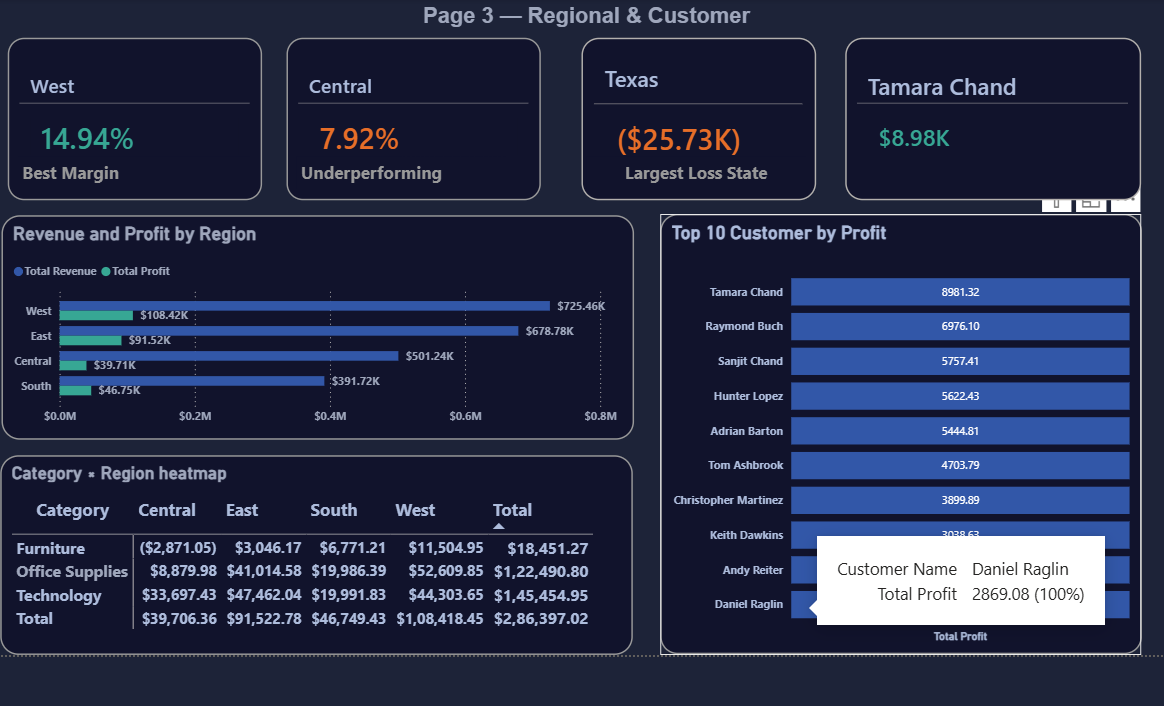

What the dashboard file says about the page in this screenshot:
{"tool":"powerbi","page":{"name":"Regional & Customer","canvas":[1280,720],"ordinal":2},"visuals":[{"type":"textbox","box":[9.6,0,1270.7,42.5],"z":0},{"type":"clusteredBarChart","title":"Revenue and Profit by Region","fields":{"Category":["superstore_enriched.Region"],"Y":["superstore_enriched.Total Revenue","superstore_enriched.Total Profit"]},"box":[2.9,238,694.2,246.6],"z":1000},{"type":"pivotTable","title":"Category × Region heatmap","fields":{"Rows":["superstore_enriched.Category"],"Columns":["superstore_enriched.Region"],"Values":["superstore_enriched.Total Profit"]},"box":[1.4,500.3,694.3,219.6],"z":2000},{"type":"hundredPercentStackedBarChart","title":"Top 10 Customer by Profit","fields":{"Category":["superstore_enriched.Customer Name"],"Y":["superstore_enriched.Total Profit"]},"box":[725.5,236.6,528.8,483.2],"z":3000},{"type":"cardVisual","title":"West Region Margin","fields":{"Data":["superstore_enriched.Profit Margin %"],"Rows":["superstore_enriched.Region"]},"box":[10,42.8,279.4,178.2],"z":4000},{"type":"cardVisual","title":"West Region Margin","fields":{"Data":["superstore_enriched.Profit Margin %"],"Rows":["superstore_enriched.Region"]},"box":[315,42.8,279.4,178.2],"z":5000},{"type":"cardVisual","title":"largest Loss Making State","fields":{"Rows":["superstore_enriched.State"],"Data":["superstore_enriched.Total Profit"]},"box":[640,42.8,258,178.2],"z":6000},{"type":"cardVisual","title":"Top Customer","fields":{"Data":["superstore_enriched.Total Profit"],"Rows":["superstore_enriched.Customer Name"]},"box":[929.4,42.8,325,178.2],"z":7000},{"type":"textbox","box":[644.3,172.5,240.9,35.6],"z":8000},{"type":"textbox","box":[326.4,172.5,230.9,35.6],"z":8001},{"type":"textbox","box":[20,172.5,255.1,35.6],"z":8002}]}

Visuals, with their boxes on the page's 1280x720 design canvas (x1, y1, x2, y2). These are canvas units, not pixel positions in the 1164x706 screenshot, which may show the page scaled, cropped or inside an application window:
textbox: 10 0 1280 42
"Revenue and Profit by Region" clusteredBarChart: 3 238 697 485
"Category × Region heatmap" pivotTable: 1 500 696 720
"Top 10 Customer by Profit" hundredPercentStackedBarChart: 726 237 1254 720
"West Region Margin" cardVisual: 10 43 289 221
"West Region Margin" cardVisual: 315 43 594 221
"largest Loss Making State" cardVisual: 640 43 898 221
"Top Customer" cardVisual: 929 43 1254 221
textbox: 644 172 885 208
textbox: 326 172 557 208
textbox: 20 172 275 208
